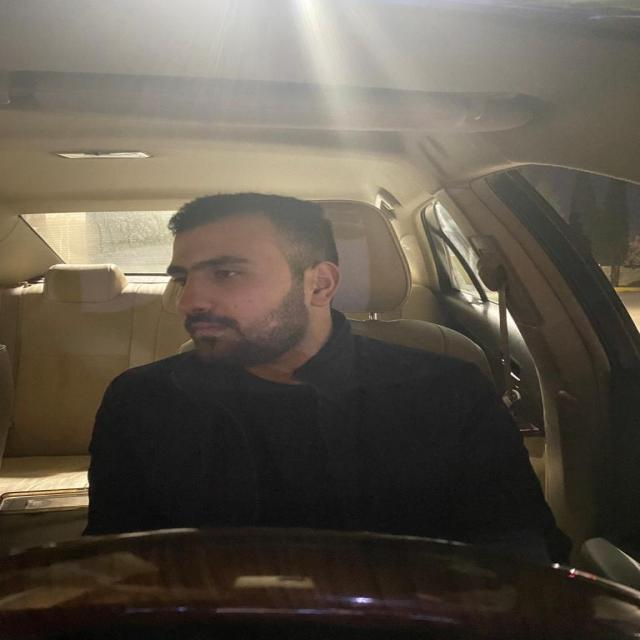LeftRight: (166, 189, 350, 385)
